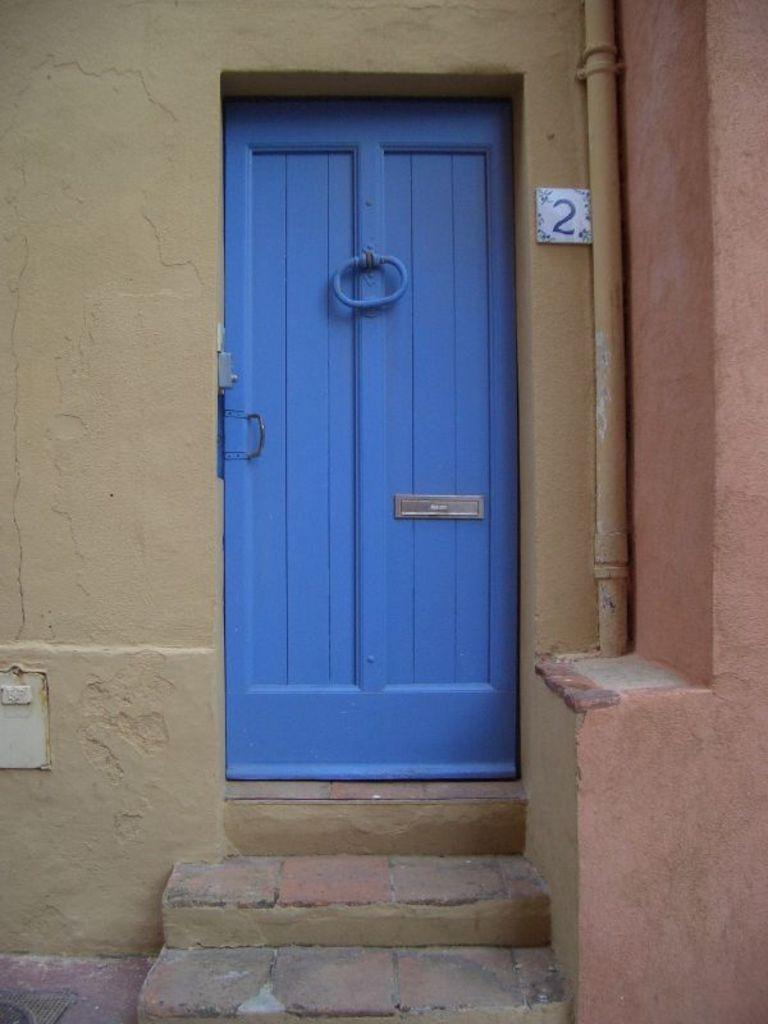door: (230, 118, 516, 775)
handle: (247, 400, 268, 478)
